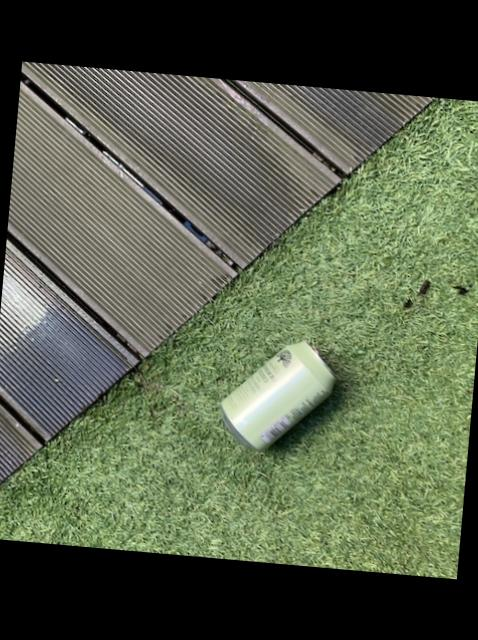metal: (0, 61, 429, 478)
